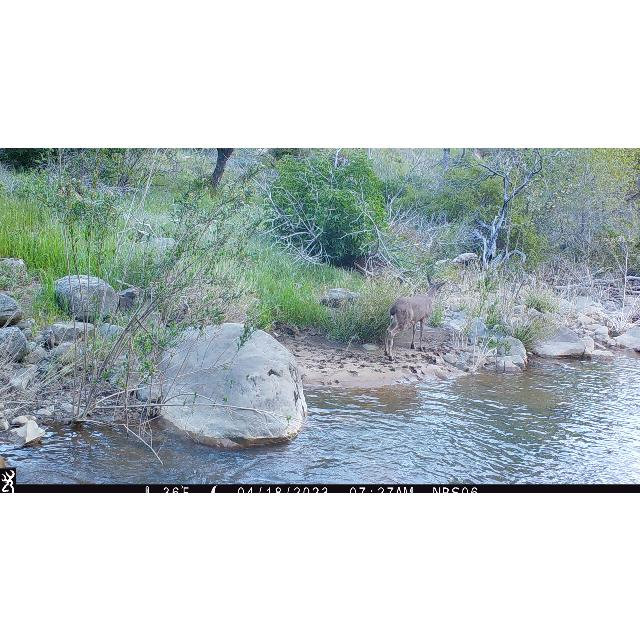animals: (384, 274, 448, 360)
